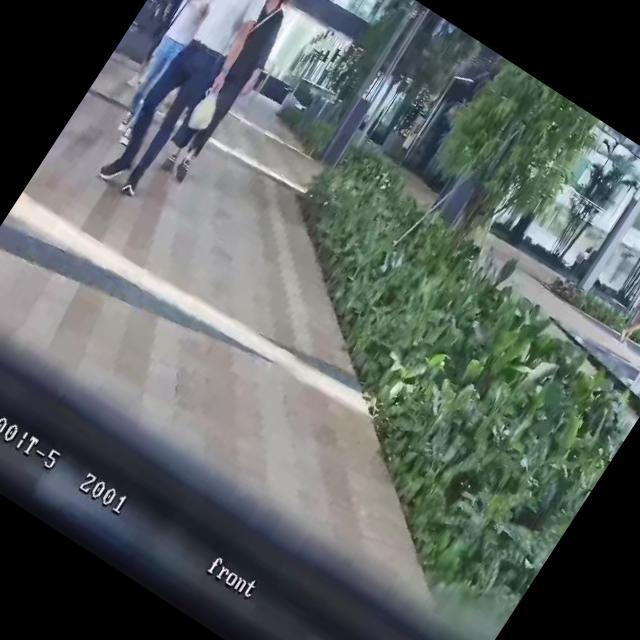person: (93, 0, 310, 208), (152, 0, 317, 187), (94, 0, 254, 141), (613, 256, 640, 350)
